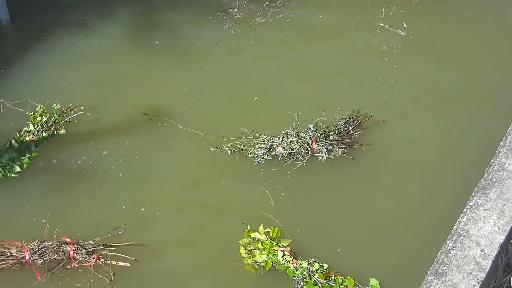twig: (236, 217, 409, 288), (214, 101, 393, 166), (0, 226, 157, 286), (0, 93, 95, 171)
